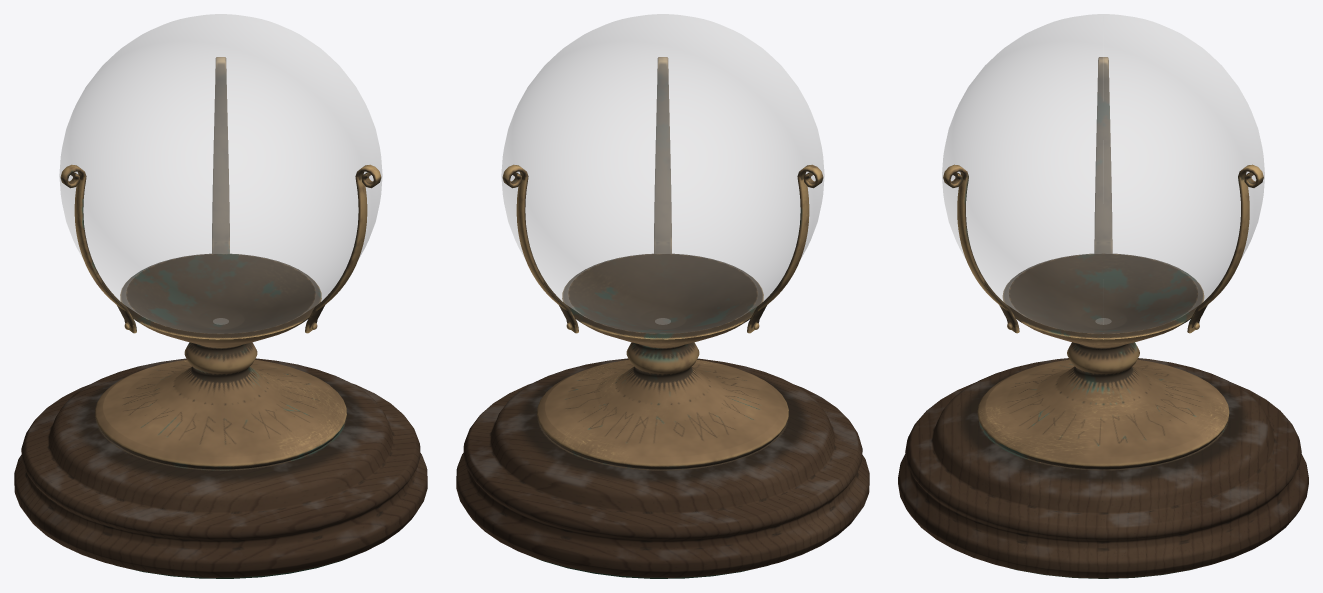
Rendered from SM_ScryingOrb.glb.
3 renders of one model, left to right at view 1: azimuth 30°, elevation 25°; view 2: azimuth 150°, elevation 25°; view 3: azimuth 270°, elevation 25°, orthographic.
Visible parts, largest first — view 1: SM_ScryingOrb, SM_ScryingOrb_Glass; view 2: SM_ScryingOrb, SM_ScryingOrb_Glass; view 3: SM_ScryingOrb, SM_ScryingOrb_Glass.
Part boxes in pixels (<box>): SM_ScryingOrb: <box>14,57,427,578</box>; SM_ScryingOrb_Glass: <box>59,14,382,333</box>; SM_ScryingOrb: <box>456,57,869,578</box>; SM_ScryingOrb_Glass: <box>501,14,824,333</box>; SM_ScryingOrb: <box>898,57,1308,578</box>; SM_ScryingOrb_Glass: <box>942,14,1264,333</box>.
Bounding box in the file's own units: 0.1412 × 0.1762 × 0.1398.
Materials: 2 (1 with a texture image).
